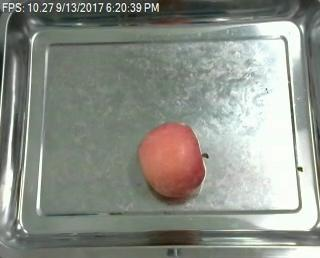apple: (136, 122, 206, 198)
